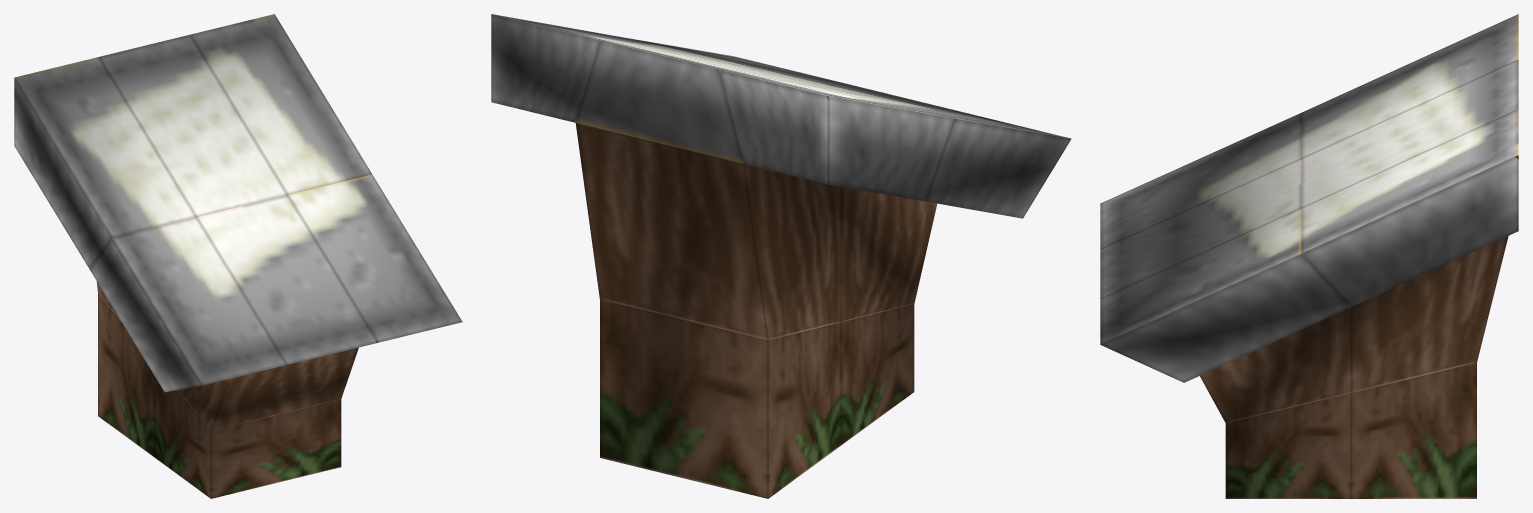
3 renders of one model, left to right at view 1: azimuth 30°, elevation 25°; view 2: azimuth 150°, elevation 25°; view 3: azimuth 270°, elevation 25°, orthographic. The views are drawn at different scales.
Visible parts, largest first — view 1: T1L2M002_25; view 2: T1L2M002_25; view 3: T1L2M002_25.
Boxes of the visible parts, box(x1,y1,x2,y2) form: T1L2M002_25: box(14, 14, 462, 498); T1L2M002_25: box(491, 14, 1071, 498); T1L2M002_25: box(1100, 14, 1518, 498).
Size of the model in its own units: 0.7998 by 1 by 1.
